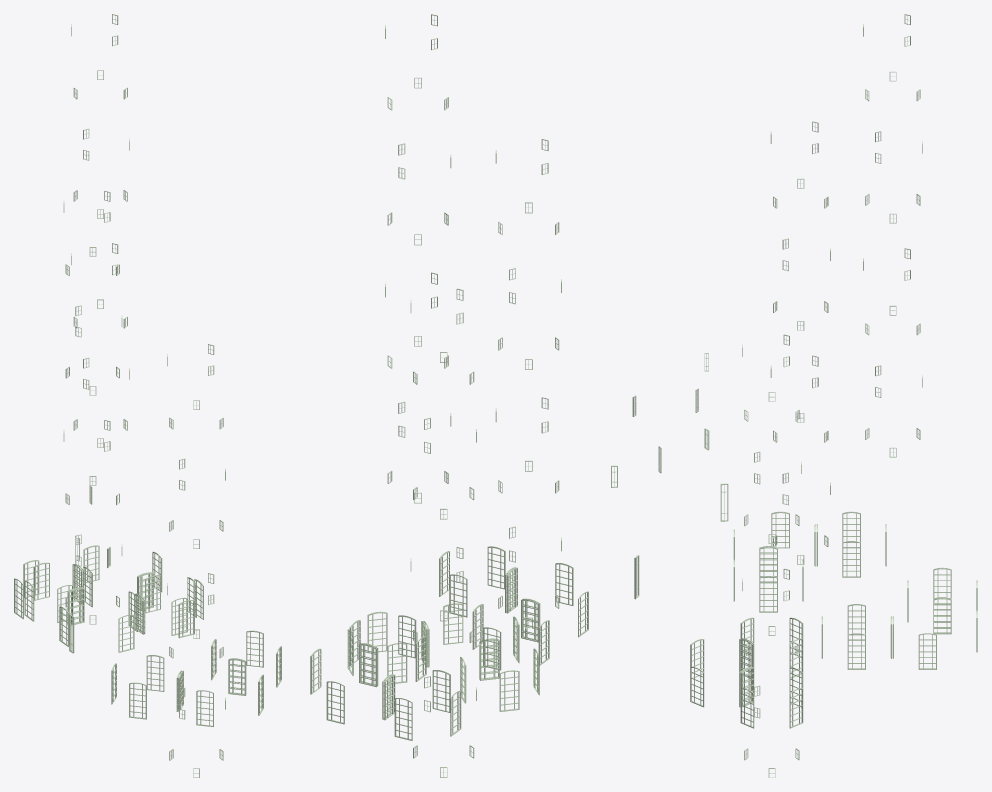
File: FairyTale54.gltf
The picture shows the model from 3 angles, left to right: view 1: azimuth 30°, elevation 25°; view 2: azimuth 150°, elevation 25°; view 3: azimuth 270°, elevation 25°; orthographic projection. The views are drawn at different scales.
Parts seen in each view (by area): view 1: CastleLG_Mullions_Wood001; view 2: CastleLG_Mullions_Wood001; view 3: CastleLG_Mullions_Wood001.
Part boxes in pixels (x1,y1,x2,y2): CastleLG_Mullions_Wood001: [14, 14, 281, 777]; CastleLG_Mullions_Wood001: [310, 14, 661, 777]; CastleLG_Mullions_Wood001: [690, 14, 977, 777].
Bounding box in the file's own units: 32.35 × 93.42 × 33.69.
